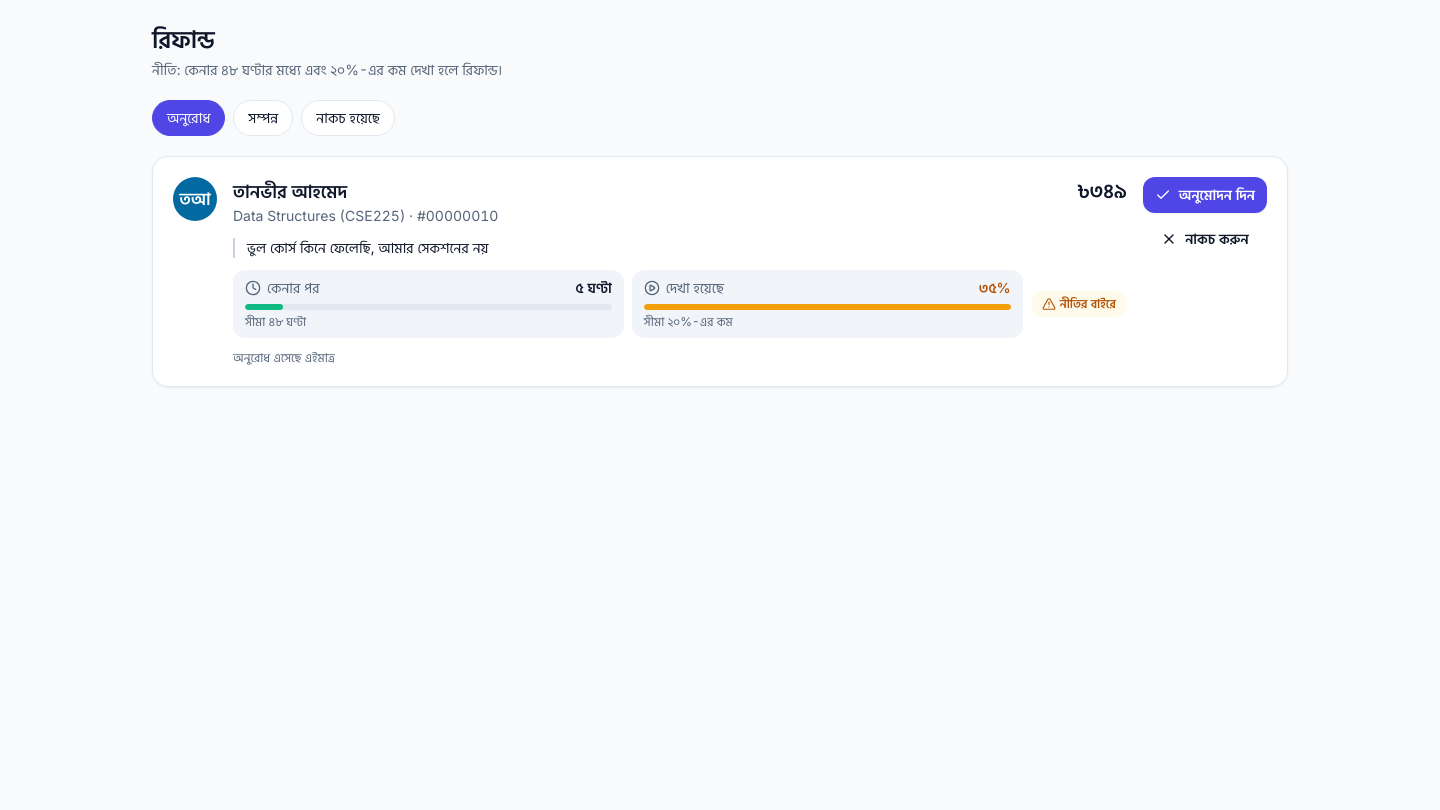
it: Admin refunds › shows eligibility context and requires a note to reject
Later steps or results of the test are not shown.
Expected: the text "৩৫%" is shown, 979,278 -> 1011,298
Expected: the text "নীতির বাইরে" is shown, 1031,291 -> 1127,317
Click the button "নাকচ করুন" at coordinates (1205, 239), box 1143,221 -> 1267,257
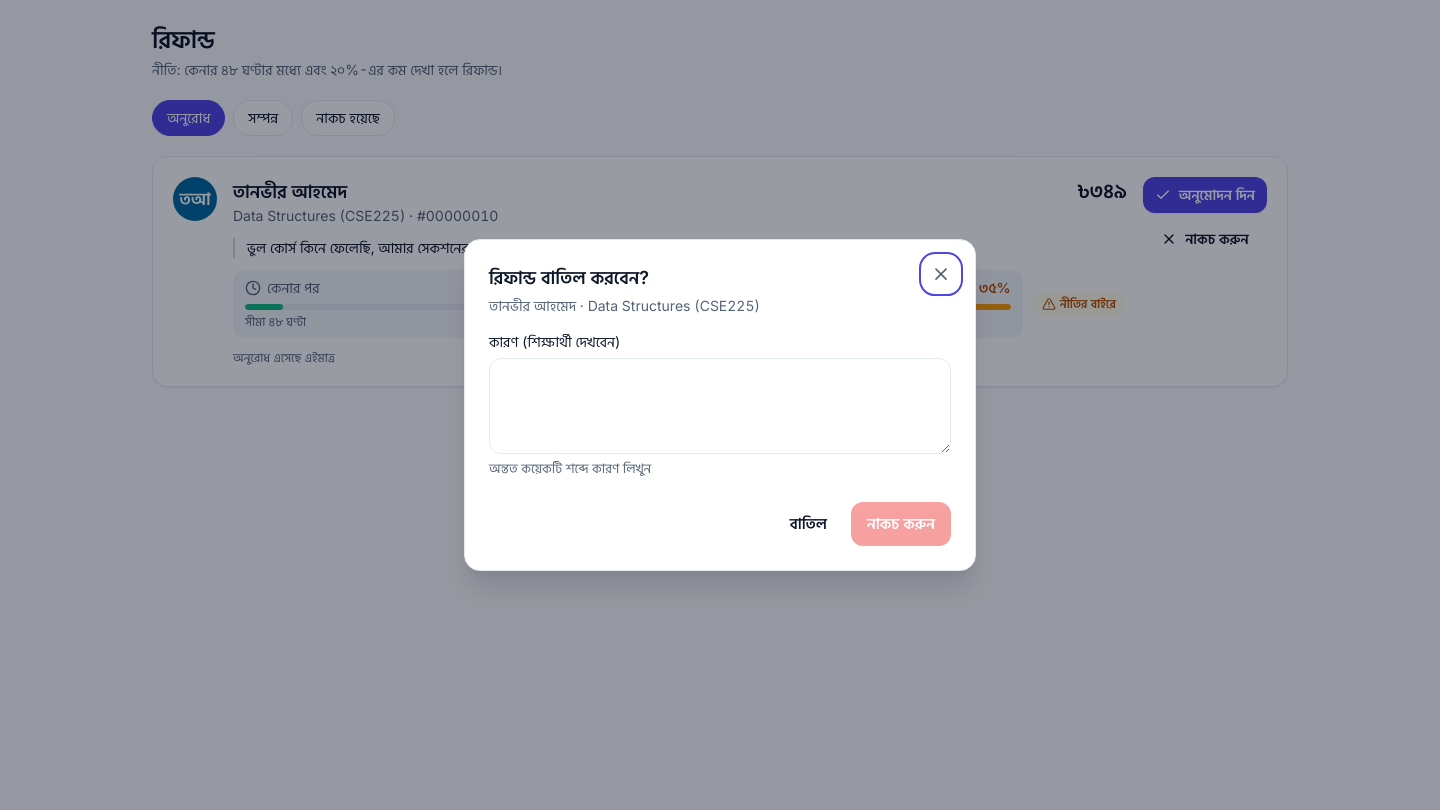
Result: the button "নাকচ করুন" is disabled at 851,502 -> 951,546
